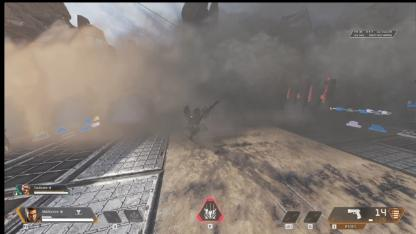Target: (185, 104, 209, 141)
